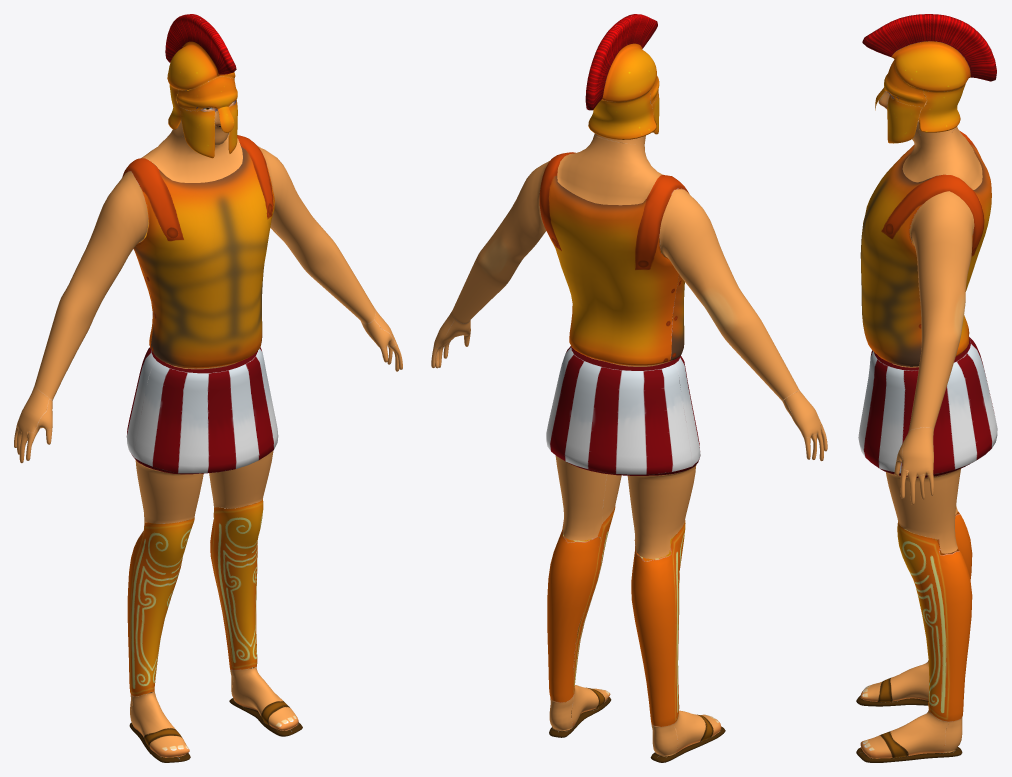
Rendered from Greek Hero.fbx.
The picture shows the model from 3 angles, left to right: view 1: azimuth 30°, elevation 25°; view 2: azimuth 150°, elevation 25°; view 3: azimuth 270°, elevation 25°; orthographic projection.
Parts seen in each view (by area): view 1: Breast Plate.004; view 2: Breast Plate.004; view 3: Breast Plate.004.
Part boxes in pixels (left/top/right/bottom): Breast Plate.004: left=14, top=14, right=402, bottom=762; Breast Plate.004: left=431, top=14, right=827, bottom=762; Breast Plate.004: left=856, top=14, right=997, bottom=762.
Bounding box in the file's own units: 106 × 188 × 33.78.
3 materials, 3 textured.
